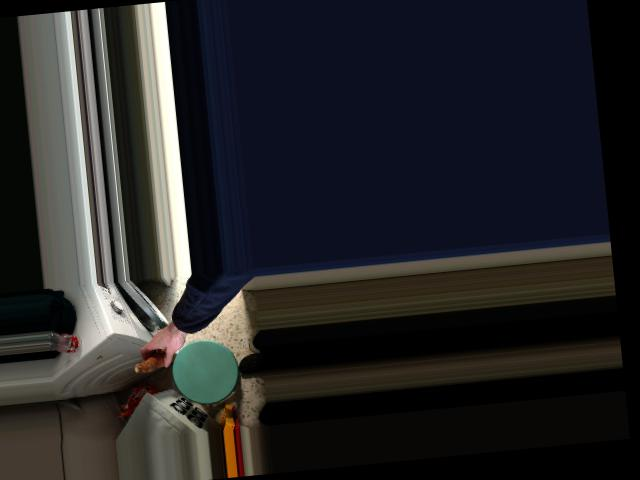sweet_potato: (133, 339, 187, 373)
